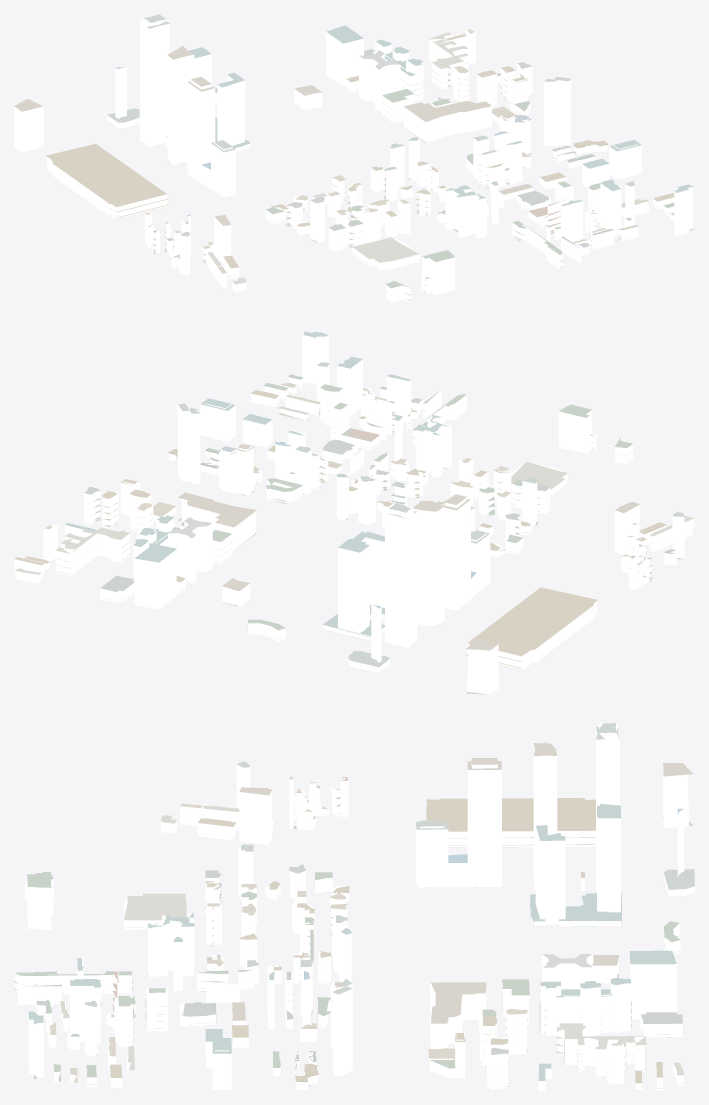
The model's file is buildings-3_-1-coarse.glb.
3 views of the same model, one above another, from view 1: azimuth 30°, elevation 25°; view 2: azimuth 150°, elevation 25°; view 3: azimuth 270°, elevation 25° (orthographic). The views are drawn at different scales.
Visible parts, largest first — view 1: block_3_-1_office, block_3_-1_residential, block_3_-1_roof; view 2: block_3_-1_office, block_3_-1_residential, block_3_-1_roof; view 3: block_3_-1_office, block_3_-1_residential, block_3_-1_roof.
Boxes of the visible parts, x1=… form: block_3_-1_office: x1=14, y1=18, x2=692, y2=295; block_3_-1_residential: x1=46, y1=30, x2=674, y2=302; block_3_-1_roof: x1=14, y1=14, x2=694, y2=300; block_3_-1_office: x1=64, y1=332, x2=684, y2=694; block_3_-1_residential: x1=14, y1=377, x2=694, y2=669; block_3_-1_roof: x1=14, y1=331, x2=694, y2=694; block_3_-1_office: x1=27, y1=723, x2=694, y2=1090; block_3_-1_residential: x1=15, y1=777, x2=683, y2=1090; block_3_-1_roof: x1=14, y1=723, x2=694, y2=1090.
Bounding box in the file's own units: 657 × 172 × 674.
